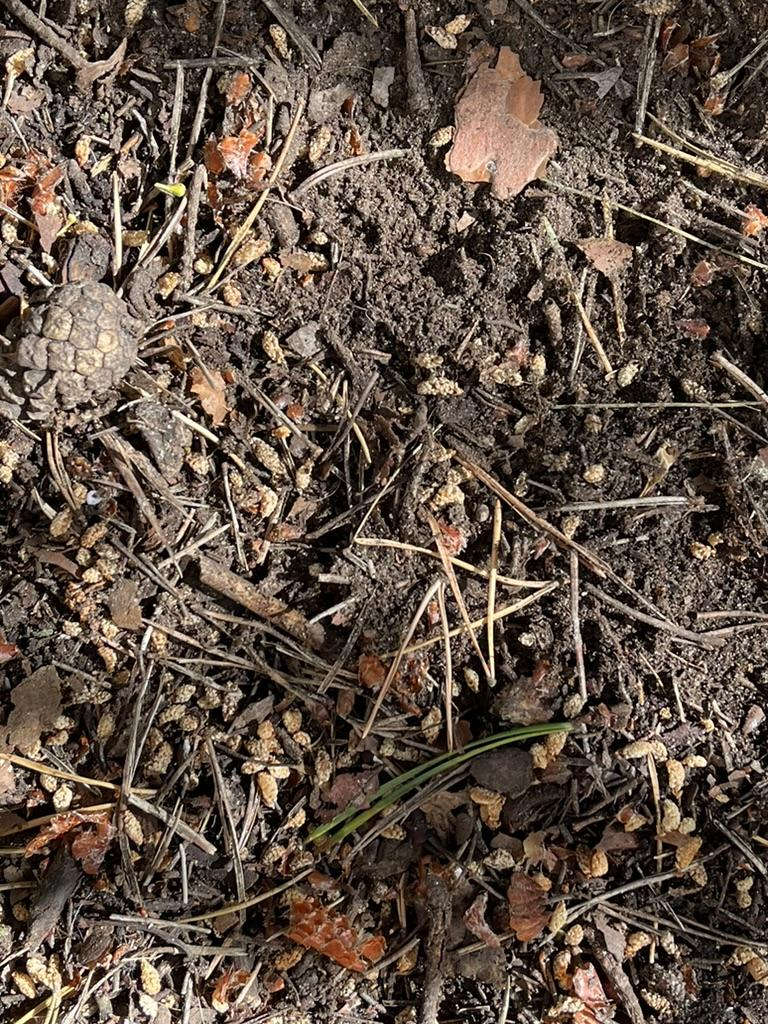pine: (0, 278, 156, 433)
